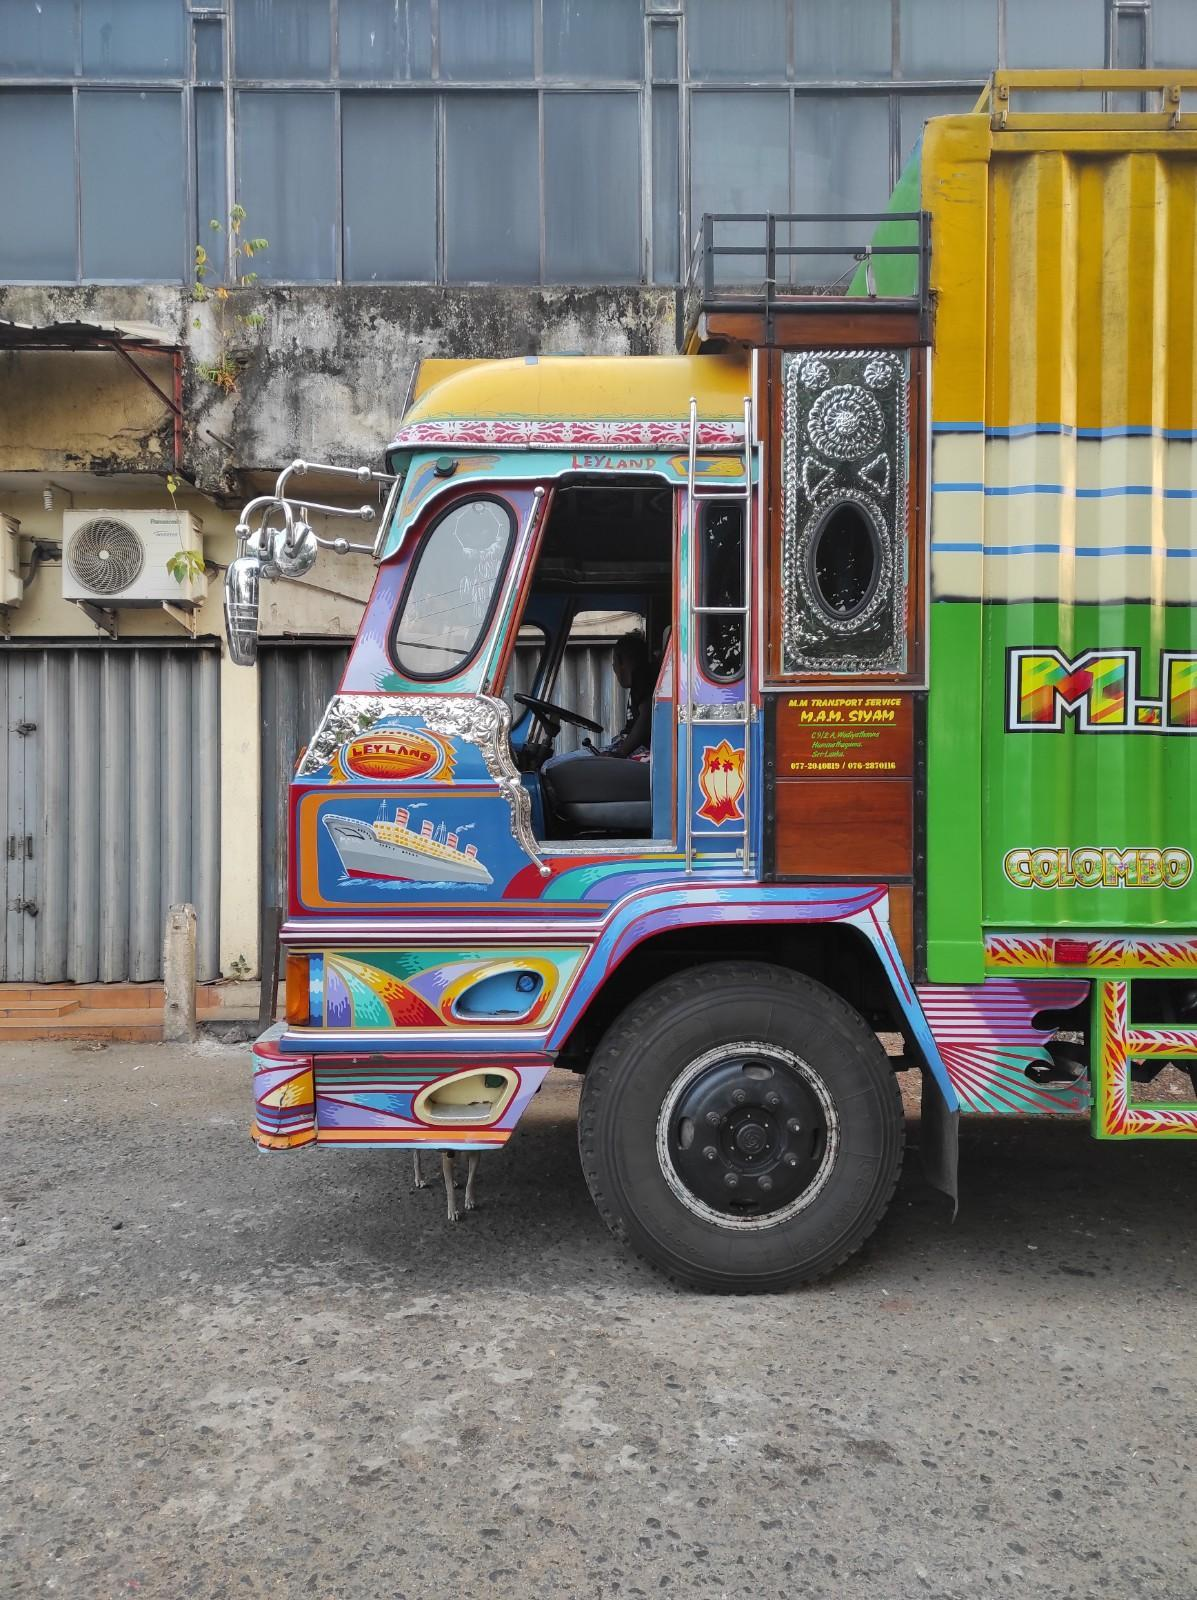truck: (224, 70, 1197, 1300)
